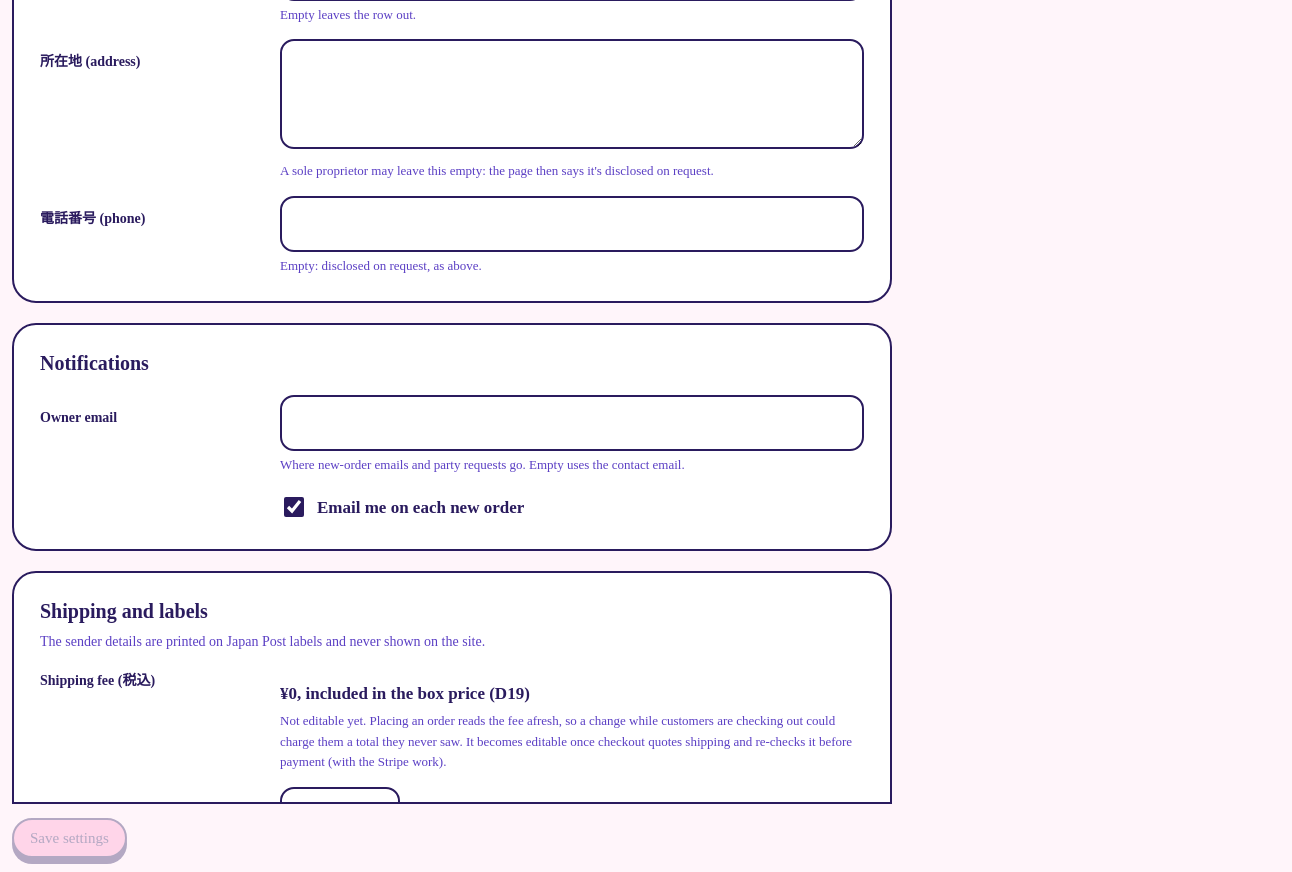
Test: SettingsForm › shows every section with the stored values, and only offers to save once something changes
(page scrolled)
Expected: the heading "Notifications" is shown, [40,352,149,374]
Expected: the heading "Shipping and labels" is shown, [40,600,208,622]
Step 1. Type "owner@example.com" into the field labelled "Owner email" → (572, 423), box [280,395,864,451]
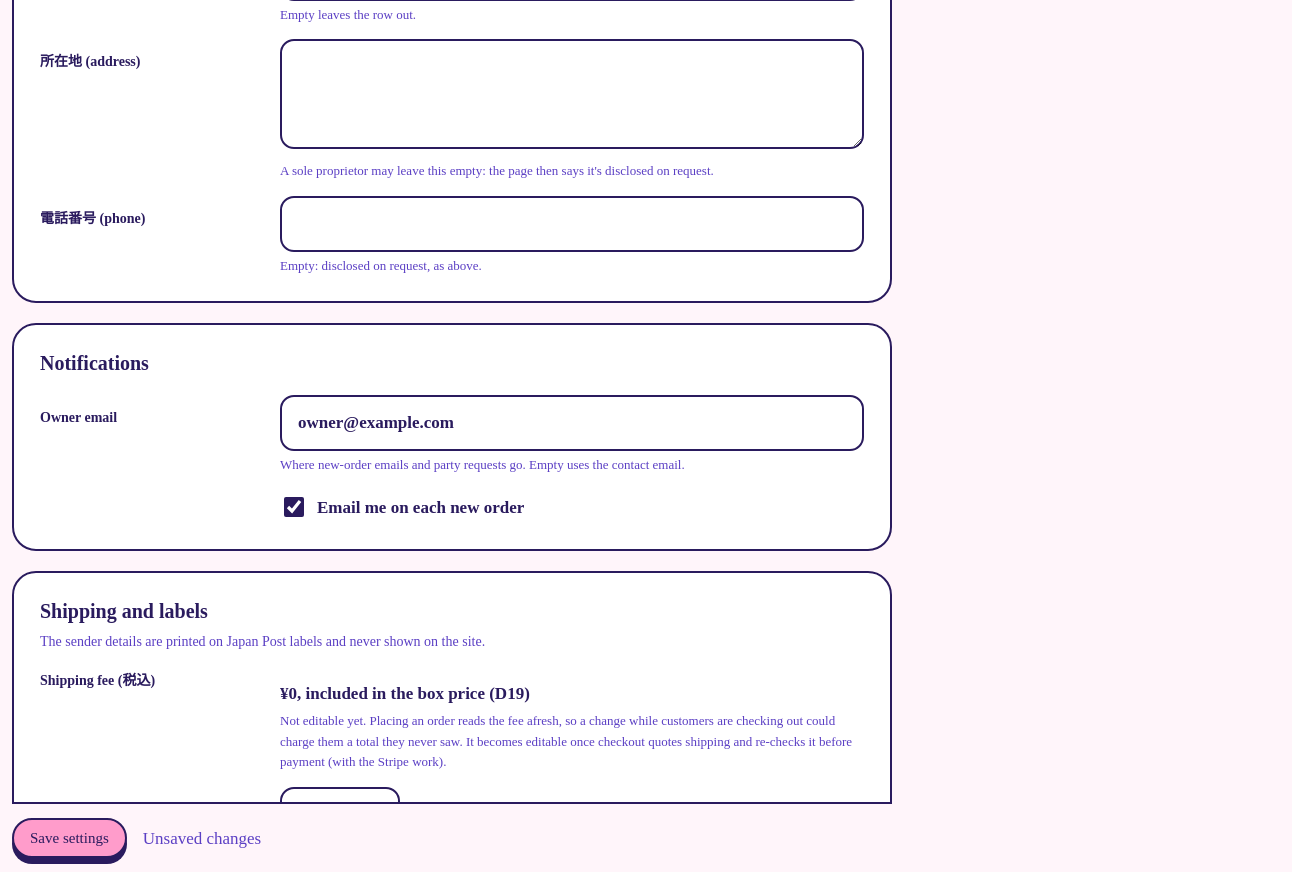
Result: the button "Save settings" is enabled at [12,818,127,858]
Result: the message reads "Unsaved changes" at [143,828,261,847]
